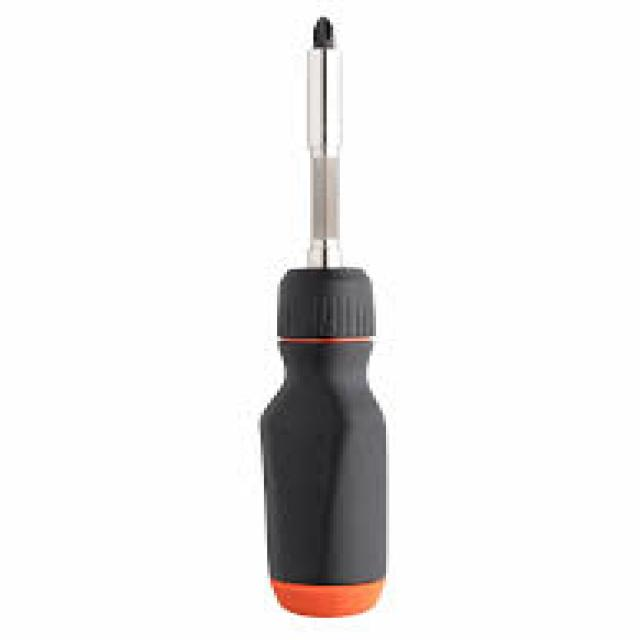Screwdriver: (261, 17, 389, 619)
